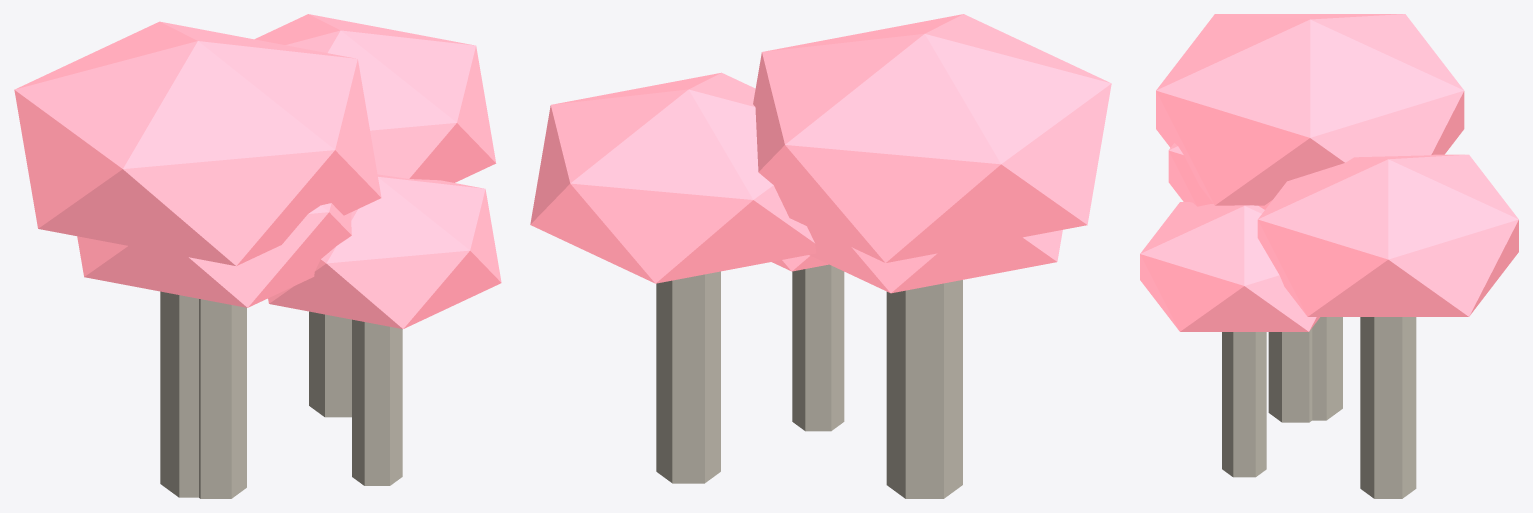
File: mushroom_cluster.glb
The picture shows the model from 3 angles, left to right: view 1: azimuth 30°, elevation 25°; view 2: azimuth 150°, elevation 25°; view 3: azimuth 270°, elevation 25°; orthographic projection. The views are drawn at different scales.
Parts seen in each view (by area): view 1: Cap_0, Cap_3, Cap_2, Cap_1, Stem_1, Stem_3, Stem_0, Stem_2; view 2: Cap_0, Cap_2, Stem_0, Stem_2, Stem_3, Cap_1; view 3: Cap_0, Cap_2, Cap_3, Stem_2, Stem_3, Stem_1, Stem_0, Cap_1.
Boxes of the visible parts, x1,y1,x2,y2 form: Cap_0: [14, 21, 381, 265]; Cap_3: [268, 174, 501, 328]; Cap_2: [255, 14, 496, 182]; Cap_1: [77, 203, 351, 307]; Stem_1: [199, 299, 246, 498]; Stem_3: [352, 319, 402, 485]; Stem_0: [160, 291, 198, 497]; Stem_2: [309, 311, 351, 417]; Cap_0: [753, 14, 1111, 262]; Cap_2: [530, 72, 816, 283]; Stem_0: [886, 280, 962, 498]; Stem_2: [656, 271, 720, 483]; Stem_3: [792, 264, 844, 431]; Cap_1: [807, 226, 1062, 293]; Cap_0: [1156, 14, 1464, 205]; Cap_2: [1257, 154, 1518, 316]; Cap_3: [1140, 202, 1319, 331]; Stem_2: [1360, 317, 1416, 498]; Stem_3: [1222, 332, 1266, 477]; Stem_1: [1268, 328, 1312, 422]; Stem_0: [1312, 317, 1342, 420]; Cap_1: [1168, 143, 1272, 209].
Size of the model in its own units: 0.5714 by 0.5013 by 0.4425.
